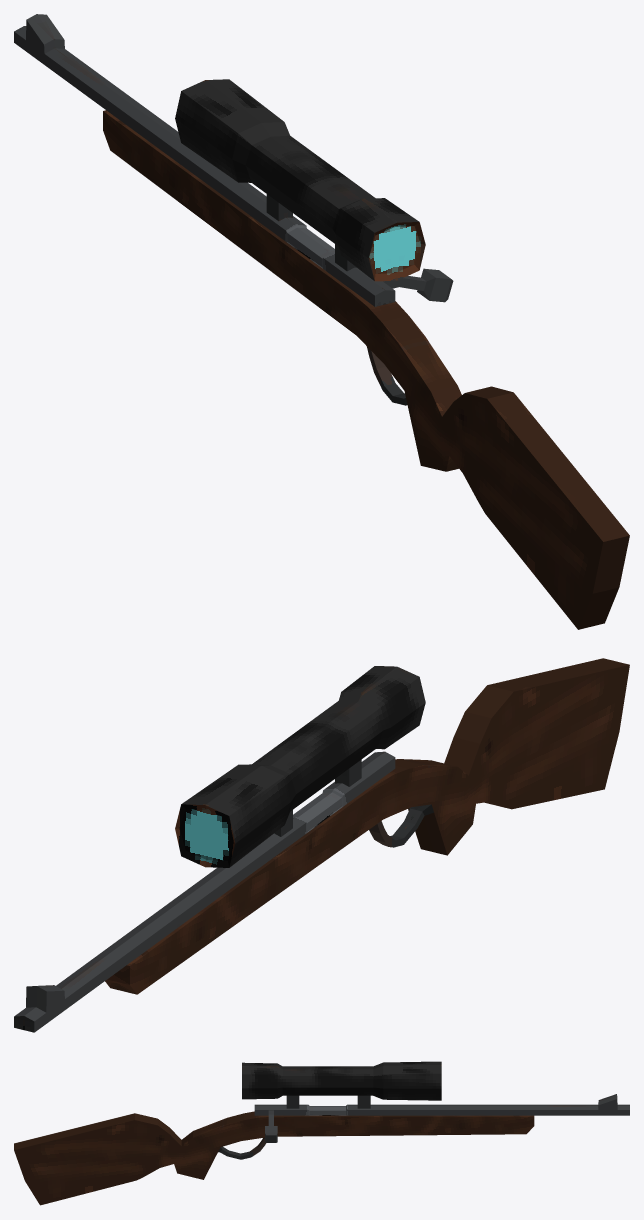
The model's file is sniper_rifle.glb.
The picture shows the model from 3 angles, top to bottom: view 1: azimuth 30°, elevation 25°; view 2: azimuth 150°, elevation 25°; view 3: azimuth 270°, elevation 25°; orthographic projection. The views are drawn at different scales.
Visible parts, largest first — view 1: rifle; view 2: rifle; view 3: rifle.
Boxes of the visible parts, x1,y1,x2,y2 form: rifle: (14, 14, 629, 629); rifle: (14, 658, 629, 1032); rifle: (14, 1061, 629, 1205).
Size of the model in its own units: 0.6028 by 1.39 by 5.65.
Materials: 1 (1 with a texture image).
